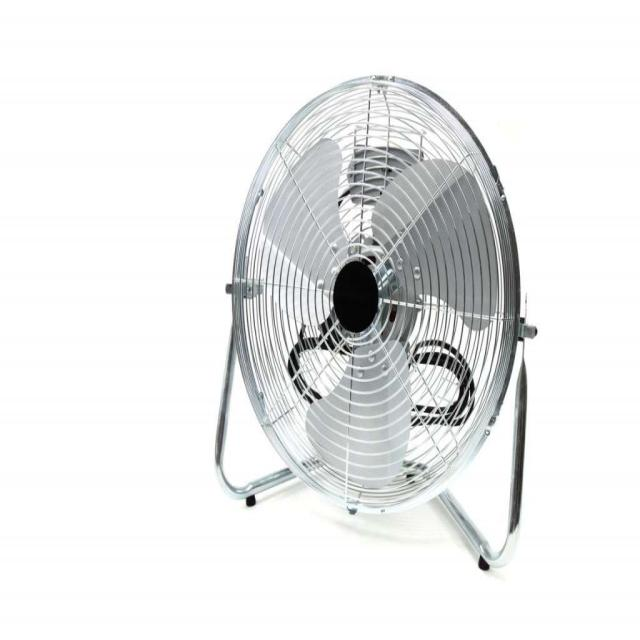fan: (215, 63, 544, 583)
